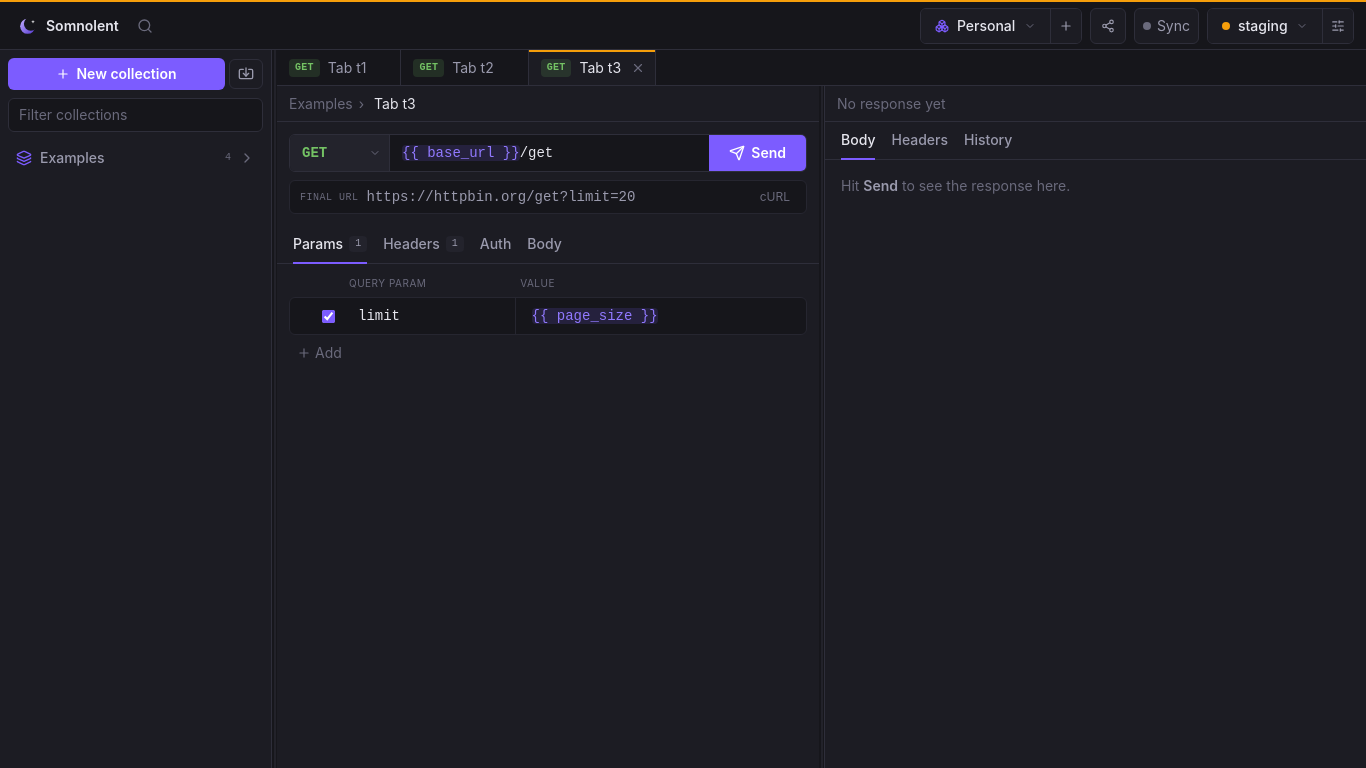
Test case: tab strip › right-clicking the strip gap offers only "close all"
Right-click the element showing "GET Tab t1 GET Tab t2 GET Tab t3": (822, 68) left=277, top=50, right=1365, bottom=86
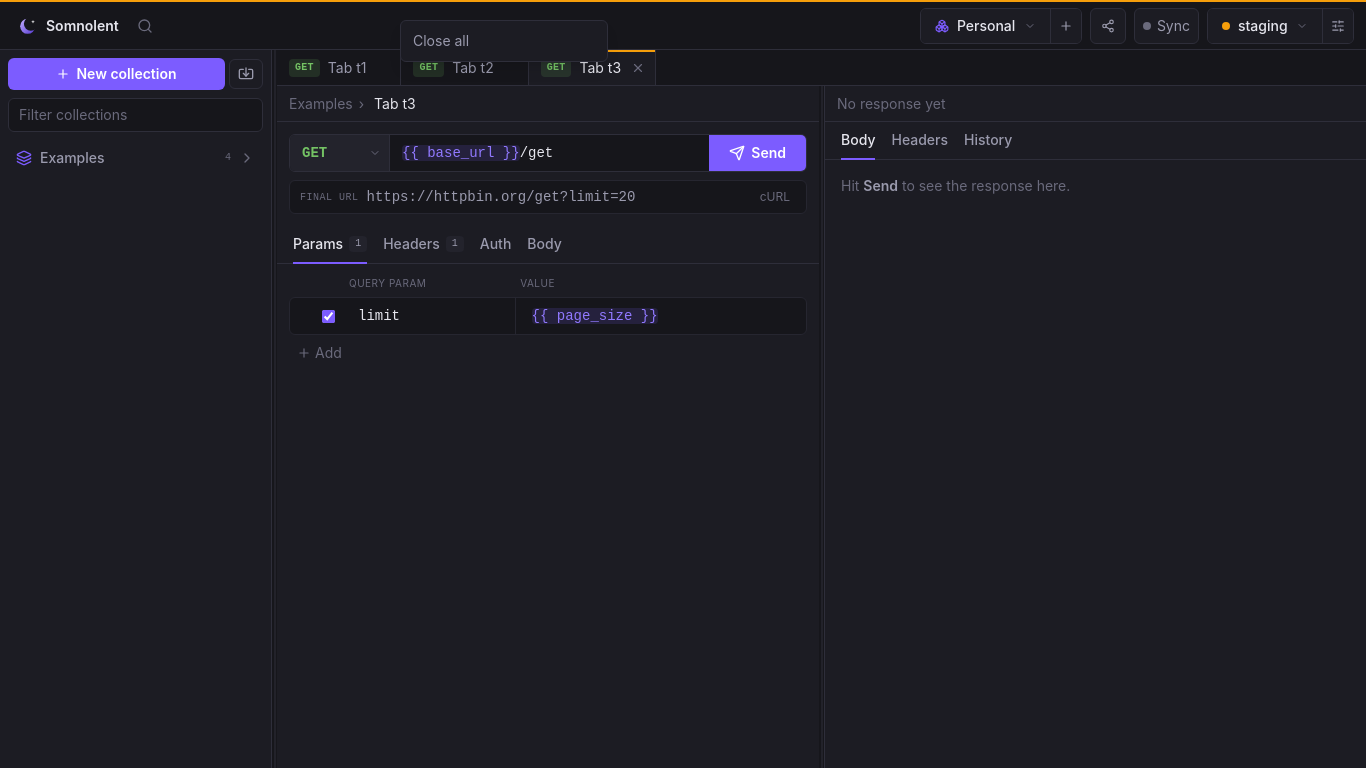
Expected: the menu items read "Close all", in this order, left=401, top=25, right=607, bottom=57
